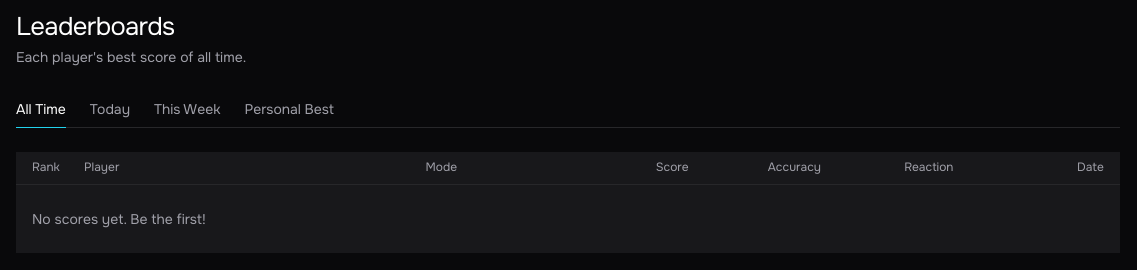
Leaderboards › switches boards by tab and names each window
What coordinates should you click on to do the following:
click the tab "This Week"
I would click on:
 (187, 109)
Its box is [154,91,220,128].
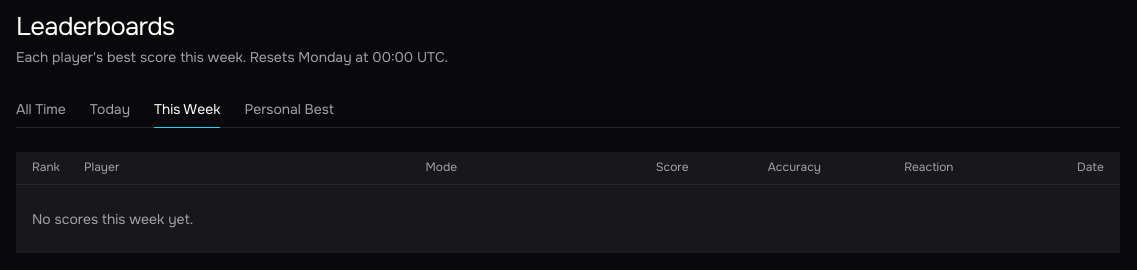
Expected: the text "Resets Monday at 00:00 UTC" is shown, [16,48,448,66]
